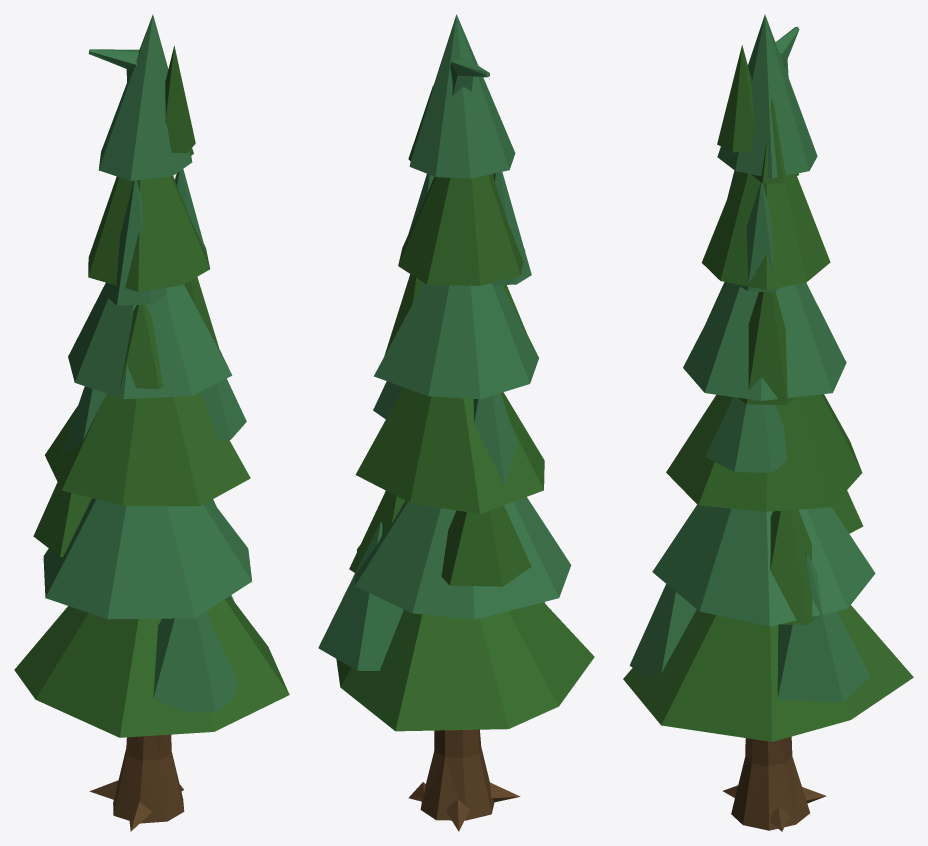
File: HS_LP_Tree_Hemlock_01.fbx
The picture shows the model from 3 angles, left to right: view 1: azimuth 30°, elevation 25°; view 2: azimuth 150°, elevation 25°; view 3: azimuth 270°, elevation 25°; orthographic projection.
Visible parts, largest first — view 1: HS_LP_Tree_Hemlock_01; view 2: HS_LP_Tree_Hemlock_01; view 3: HS_LP_Tree_Hemlock_01.
Boxes of the visible parts, x1,y1,x2,y2 form: HS_LP_Tree_Hemlock_01: [14, 14, 289, 831]; HS_LP_Tree_Hemlock_01: [318, 14, 594, 831]; HS_LP_Tree_Hemlock_01: [623, 14, 913, 831].
Bounding box in the file's own units: 200 × 664 × 218.
